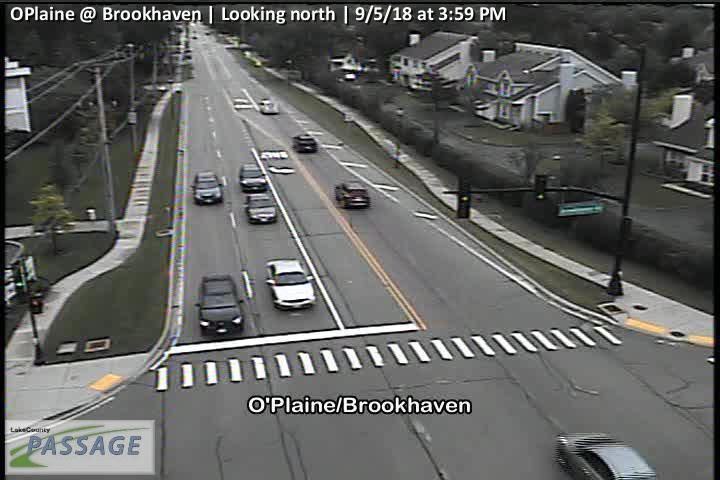SUV: (556, 431, 656, 480), (195, 274, 244, 335), (335, 181, 370, 209), (244, 193, 276, 222), (240, 163, 268, 194), (292, 133, 317, 154), (259, 99, 279, 113)
Sedan: (265, 259, 316, 309), (194, 170, 222, 204)
